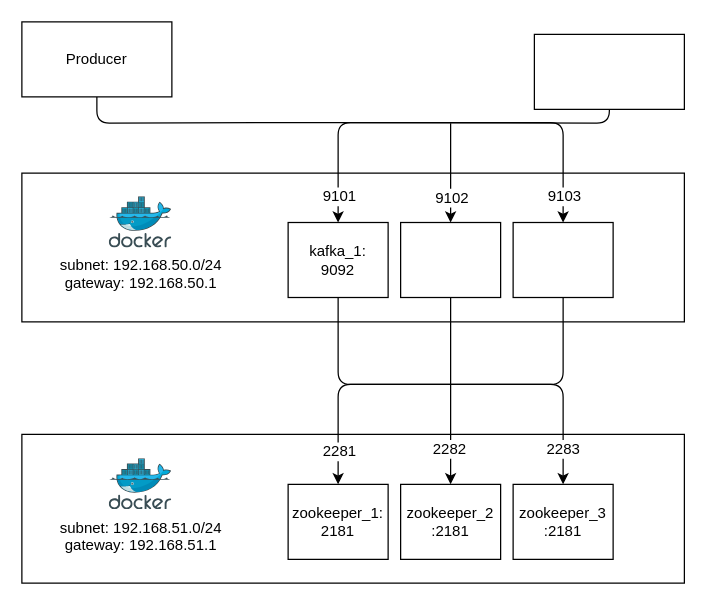
Some shapes in this 706 by 605 pixel diagram are drawn without their labels. The box of each missing label's shape, as (x1, y1, x2, y2) in pixels:
Consumer: (533, 33, 684, 109)
kafka_2: 9092: (399, 221, 501, 298)
kafka_3: 9092: (512, 221, 613, 298)
